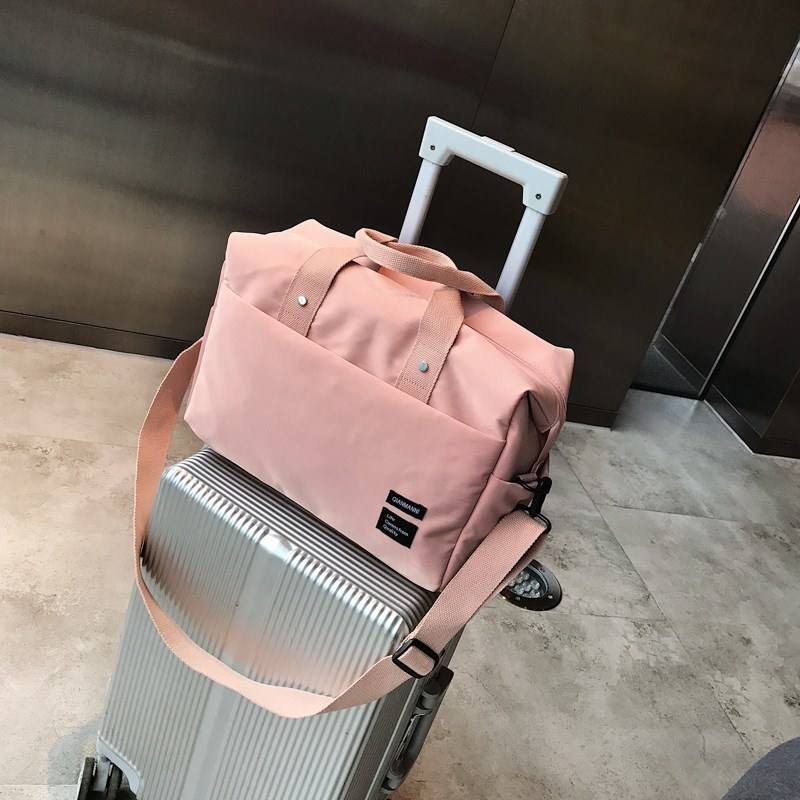box: (93, 449, 466, 800)
handle: (376, 665, 454, 794)
wheel: (75, 752, 125, 800)
